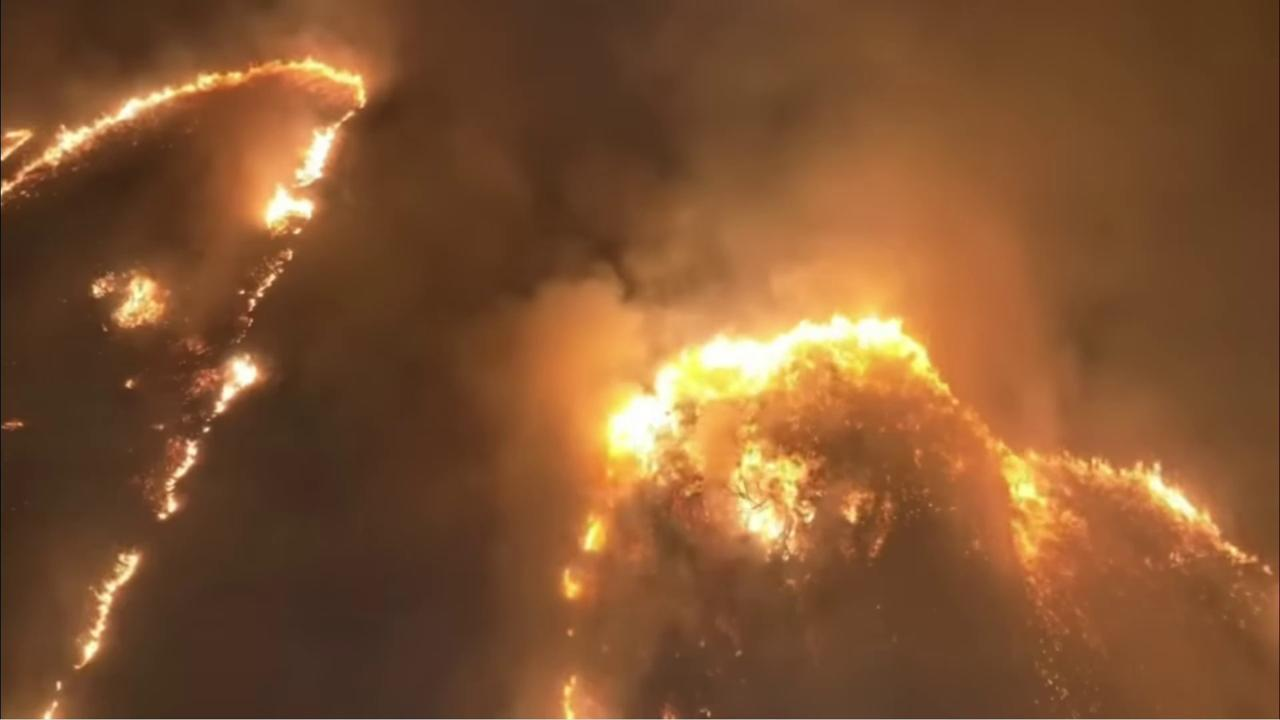fire: (552, 303, 1280, 616), (0, 54, 373, 240), (138, 354, 266, 521), (67, 544, 141, 671), (222, 245, 294, 346), (88, 261, 173, 330), (556, 673, 579, 720), (38, 698, 59, 720), (0, 420, 30, 434), (55, 679, 65, 693)
smoke: (0, 0, 1280, 720)
